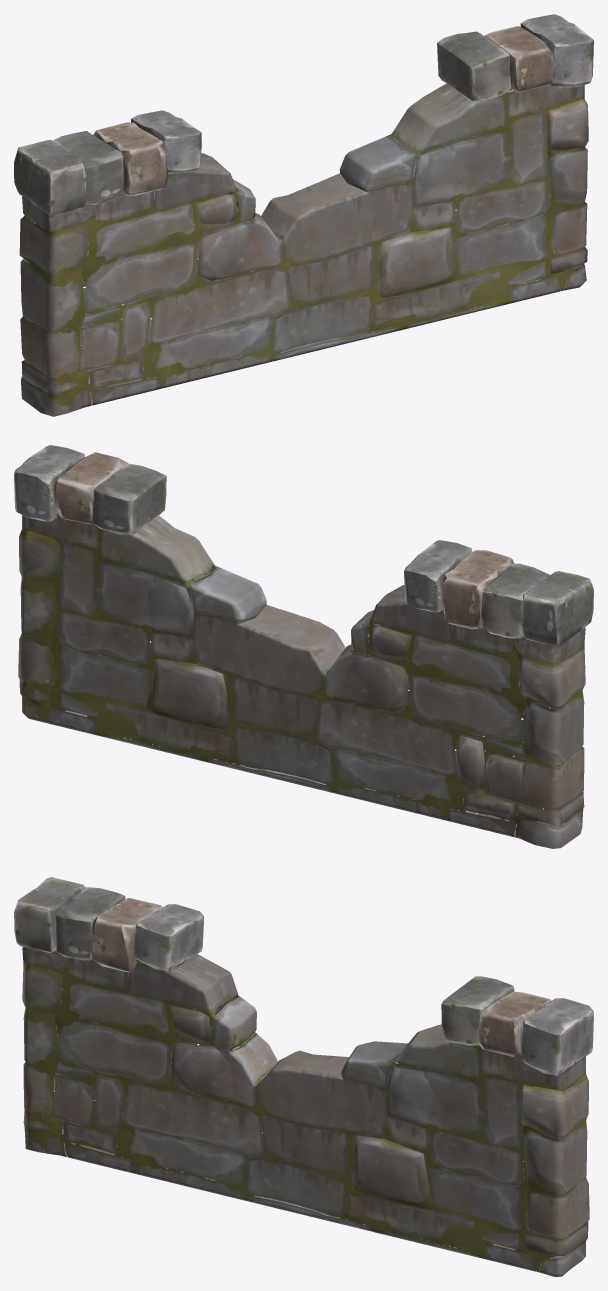
The picture shows the model from 3 angles, top to bottom: view 1: azimuth 30°, elevation 25°; view 2: azimuth 150°, elevation 25°; view 3: azimuth 330°, elevation 25°; orthographic projection.
Visible parts, largest first — view 1: SM_River_Bridge_Wall_01_v5_LOD0; view 2: SM_River_Bridge_Wall_01_v5_LOD0; view 3: SM_River_Bridge_Wall_01_v5_LOD0.
Boxes of the visible parts, box(x1,y1,x2,y2) form: SM_River_Bridge_Wall_01_v5_LOD0: box(14, 14, 593, 416); SM_River_Bridge_Wall_01_v5_LOD0: box(14, 445, 593, 848); SM_River_Bridge_Wall_01_v5_LOD0: box(14, 877, 593, 1276).
Size of the model in its own units: 4.05 by 1.79 by 0.5038.
2 materials, 2 textured.
